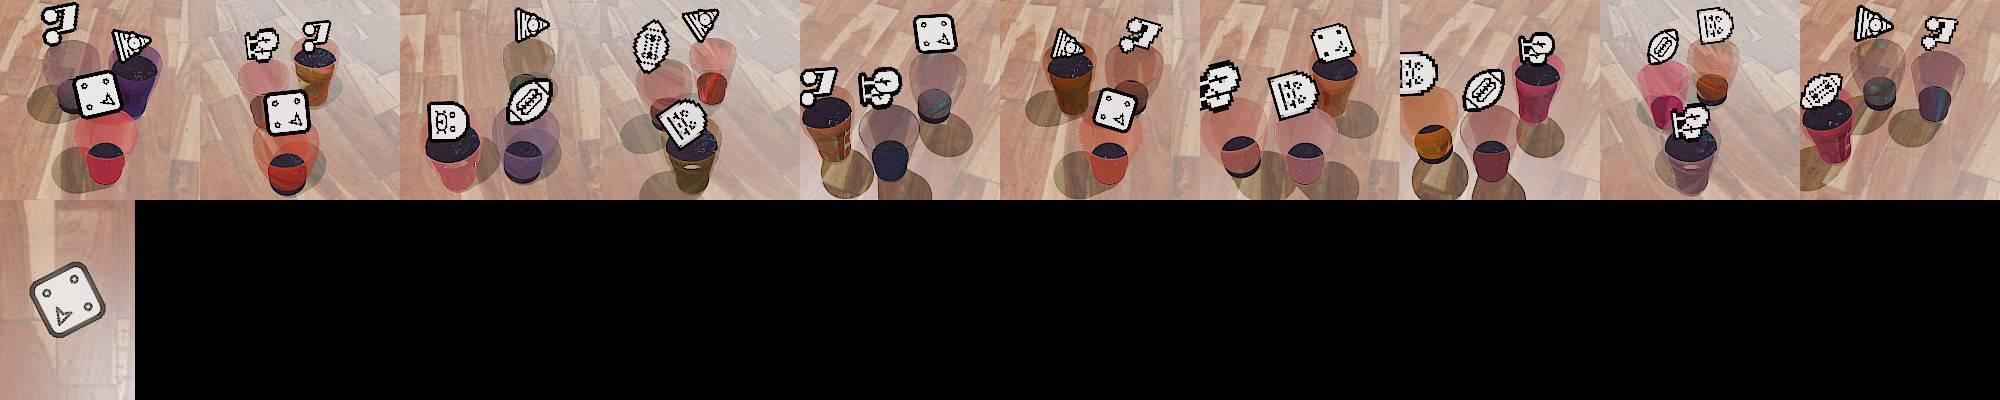icon: (28, 260, 109, 339), (654, 97, 710, 149), (1267, 69, 1319, 121), (505, 76, 556, 126), (72, 70, 124, 119), (262, 89, 312, 136), (1091, 86, 1139, 133), (1198, 59, 1239, 112), (426, 100, 473, 145), (632, 20, 670, 75), (1461, 67, 1505, 113), (858, 66, 902, 111), (1311, 22, 1355, 65), (913, 13, 957, 55), (1119, 16, 1164, 55), (1399, 50, 1437, 96), (40, 3, 79, 46), (1800, 72, 1844, 110), (1695, 6, 1734, 46), (1671, 102, 1710, 141), (799, 66, 839, 104), (1854, 5, 1894, 43), (111, 29, 153, 64), (681, 7, 720, 44), (1921, 16, 1958, 54), (1517, 31, 1555, 67), (244, 27, 281, 63), (515, 7, 550, 44), (1050, 27, 1087, 60), (1647, 28, 1679, 66), (301, 20, 332, 50)
